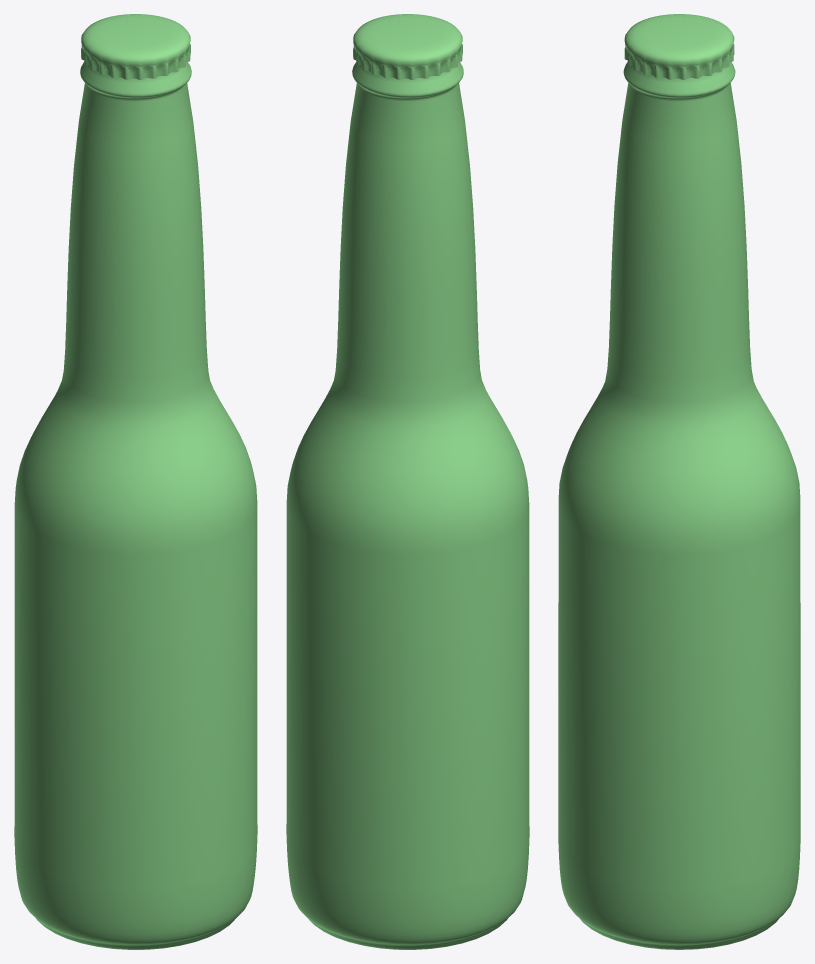
Rendered from 啤酒瓶.fbx.
The picture shows the model from 3 angles, left to right: view 1: azimuth 30°, elevation 25°; view 2: azimuth 150°, elevation 25°; view 3: azimuth 270°, elevation 25°; orthographic projection.
Visible parts, largest first — view 1: pijiuping:KR_06; view 2: pijiuping:KR_06; view 3: pijiuping:KR_06.
Boxes of the visible parts, <box> form: pijiuping:KR_06: <box>14,14,257,949</box>; pijiuping:KR_06: <box>286,14,529,949</box>; pijiuping:KR_06: <box>558,14,800,949</box>.
Bounding box in the file's own units: 2.17 × 8.64 × 2.16.
